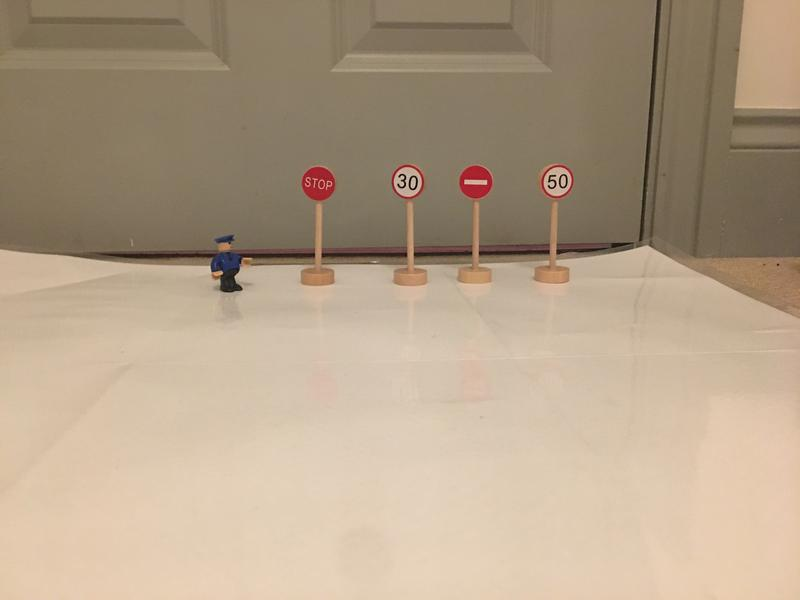Traffic_Sign_30: (393, 165, 424, 199)
Traffic_Sign_50: (542, 165, 574, 199)
Traffic_Sign_No_Entry: (460, 166, 493, 200)
Traffic_Sign_Stop: (302, 166, 335, 200)
person: (209, 235, 253, 295)
